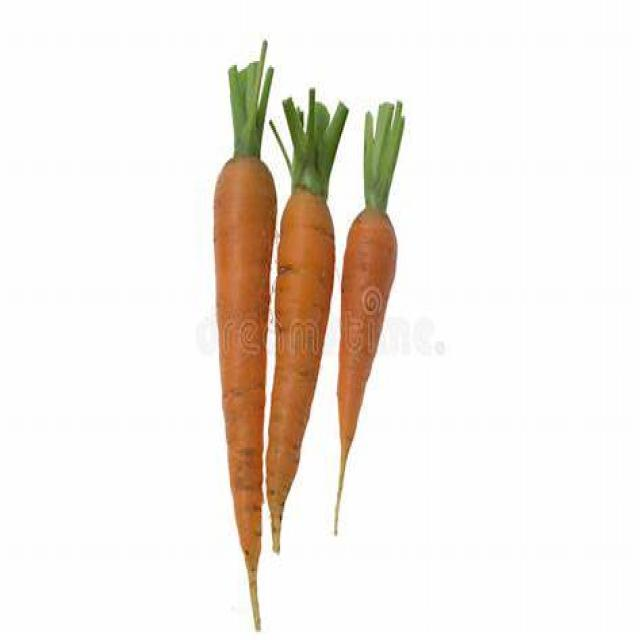Carrot: (209, 42, 276, 628), (266, 96, 333, 568), (342, 104, 403, 486)
